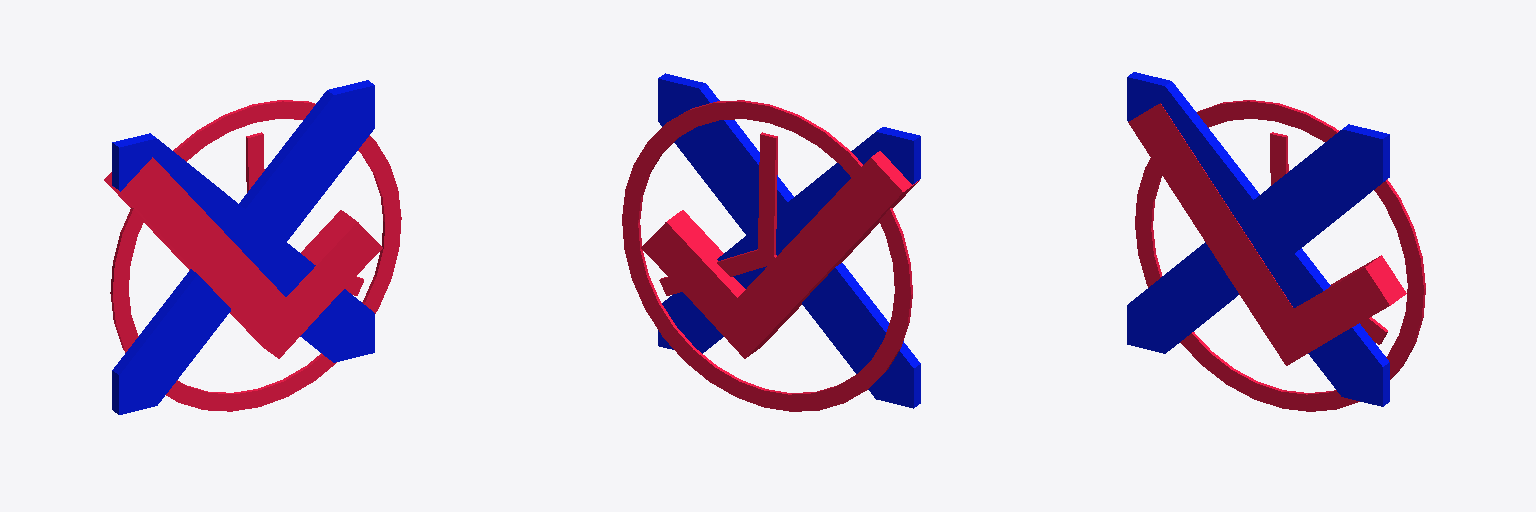
File: wait-component.obj
The picture shows the model from 3 angles: view 1: azimuth 30°, elevation 25°; view 2: azimuth 150°, elevation 25°; view 3: azimuth 330°, elevation 25°; orthographic projection.
Visible parts, largest first — view 1: Failed, Succeeded, Processing; view 2: Failed, Processing, Succeeded; view 3: Failed, Succeeded, Processing.
Part boxes in pixels (left/top/right/bottom): Failed: left=112, top=80, right=374, bottom=414; Succeeded: left=104, top=157, right=382, bottom=358; Processing: left=110, top=100, right=401, bottom=411; Failed: left=658, top=73, right=920, bottom=408; Processing: left=622, top=100, right=912, bottom=411; Succeeded: left=641, top=151, right=919, bottom=358; Failed: left=1127, top=72, right=1389, bottom=406; Succeeded: left=1128, top=103, right=1406, bottom=365; Processing: left=1135, top=100, right=1425, bottom=411.
Bounding box in the file's own units: 0.0105 × 0.0105 × 0.0011.